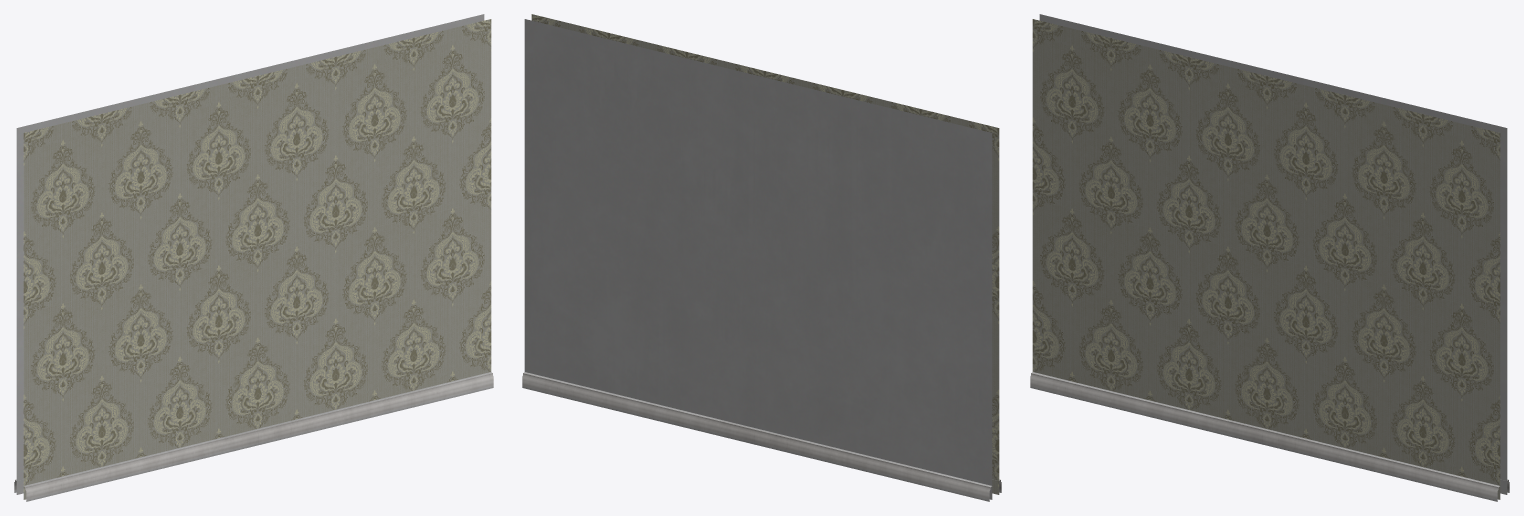
File: Inner_Wall_01.fbx
3 renders of one model, left to right at view 1: azimuth 30°, elevation 25°; view 2: azimuth 150°, elevation 25°; view 3: azimuth 330°, elevation 25°, orthographic.
Parts seen in each view (by area): view 1: Inner_Wall_01; view 2: Inner_Wall_01; view 3: Inner_Wall_01.
Boxes of the visible parts, x1,y1,x2,y2 form: Inner_Wall_01: (14, 14, 493, 501); Inner_Wall_01: (522, 14, 1001, 501); Inner_Wall_01: (1030, 14, 1509, 501).
Bounding box in the file's own units: 400 × 300 × 17.86.
